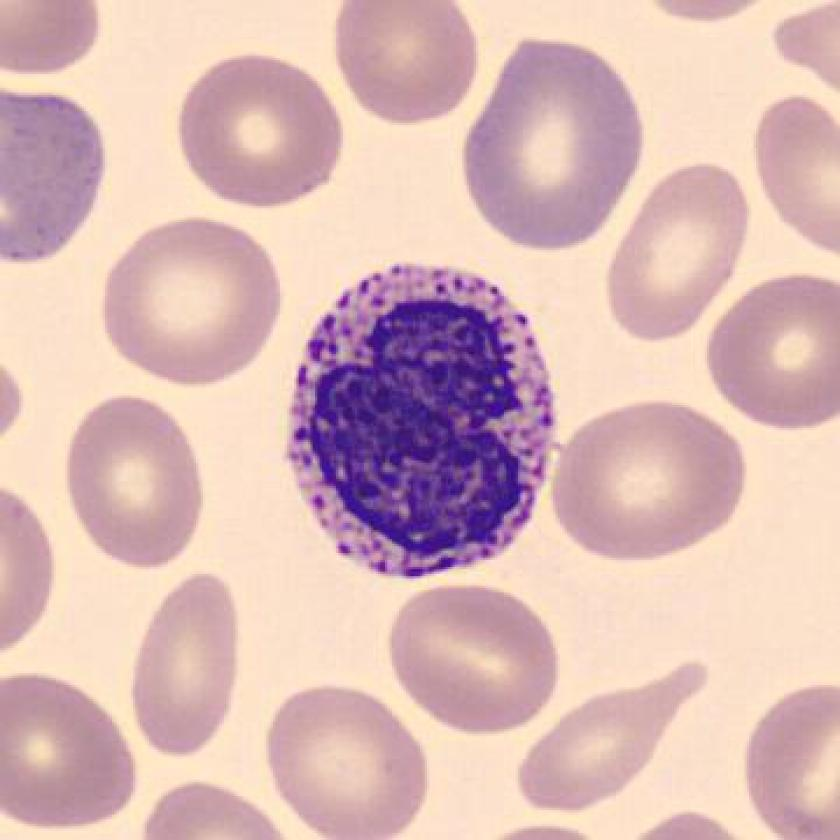basophil: (272, 256, 568, 589)
